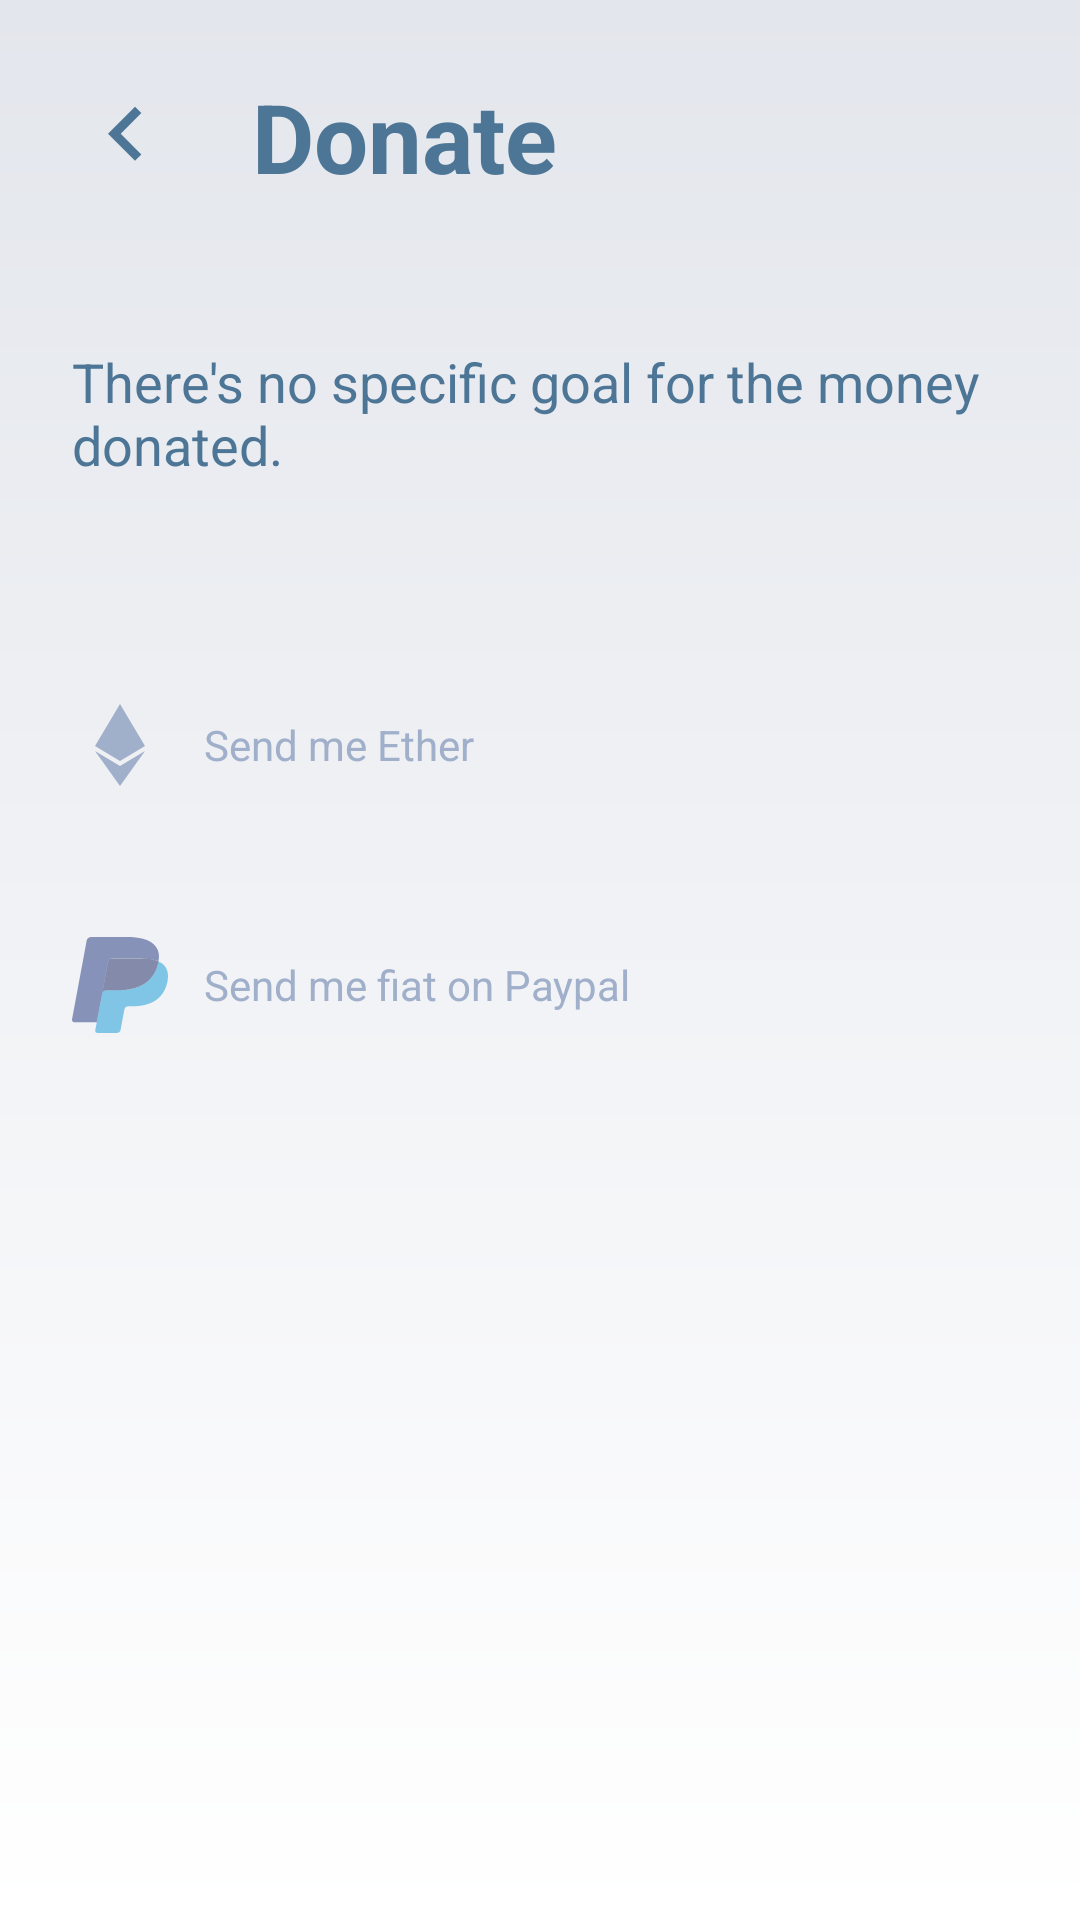

Named icons in this screenshot (1080x1920) and their bounding boxes, (left=x1, top=y1, right=x2, bottom=y2):
keyboard arrow left: (left=108, top=107, right=141, bottom=161)
